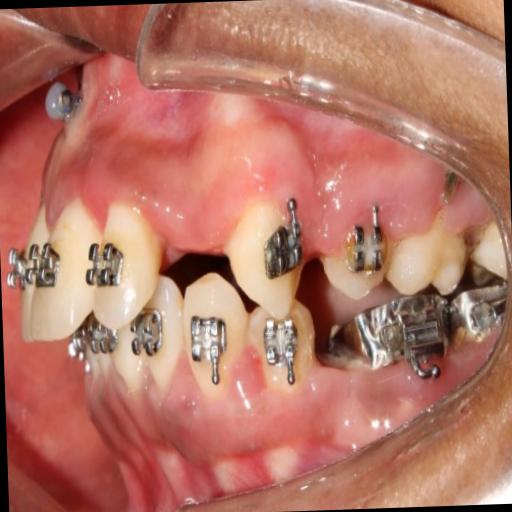correct_brace: (178, 268, 252, 408), (255, 195, 306, 283), (184, 308, 234, 388), (80, 235, 128, 299)
incorrect_brace: (81, 192, 169, 333)
